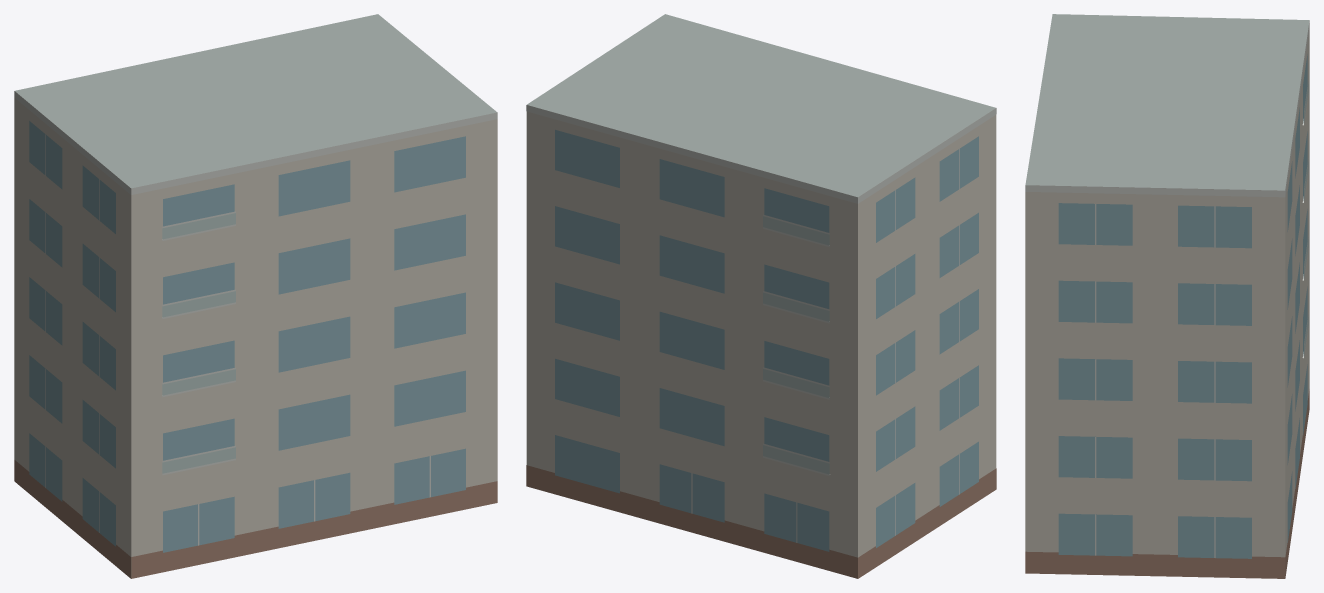
The model's file is survey-upis-32878141.glb.
3 views of the same model, side by side, from view 1: azimuth 30°, elevation 25°; view 2: azimuth 150°, elevation 25°; view 3: azimuth 270°, elevation 25° (orthographic). The views are drawn at different scales.
Parts seen in each view (by area): view 1: survey-upis-32878141.tmp; view 2: survey-upis-32878141.tmp; view 3: survey-upis-32878141.tmp.
Boxes of the visible parts, x1,y1,x2,y2 form: survey-upis-32878141.tmp: (14,14,497,578); survey-upis-32878141.tmp: (526,14,996,578); survey-upis-32878141.tmp: (1025,14,1309,578).
Bounding box in the file's own units: 13.86 × 14.2 × 9.43.
